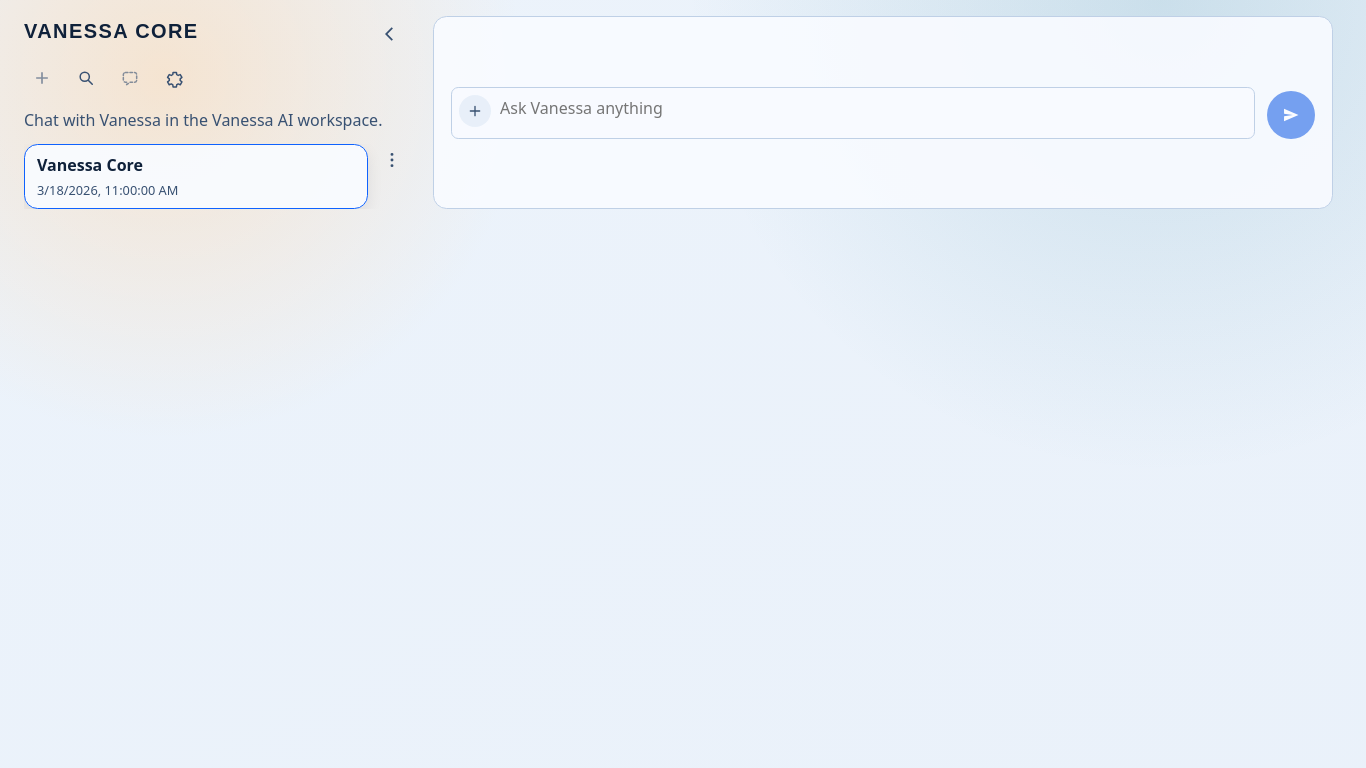
Test case: VanessaCorePage › mounts Vanessa through the shared playground workspace with a fixed assistant identity
expect the text "Chat with Vanessa in the Vanessa AI workspace." is shown: met, box [24,108,408,132]
Click the button named "Chat settings": [174, 78] box [156,60,192,96]
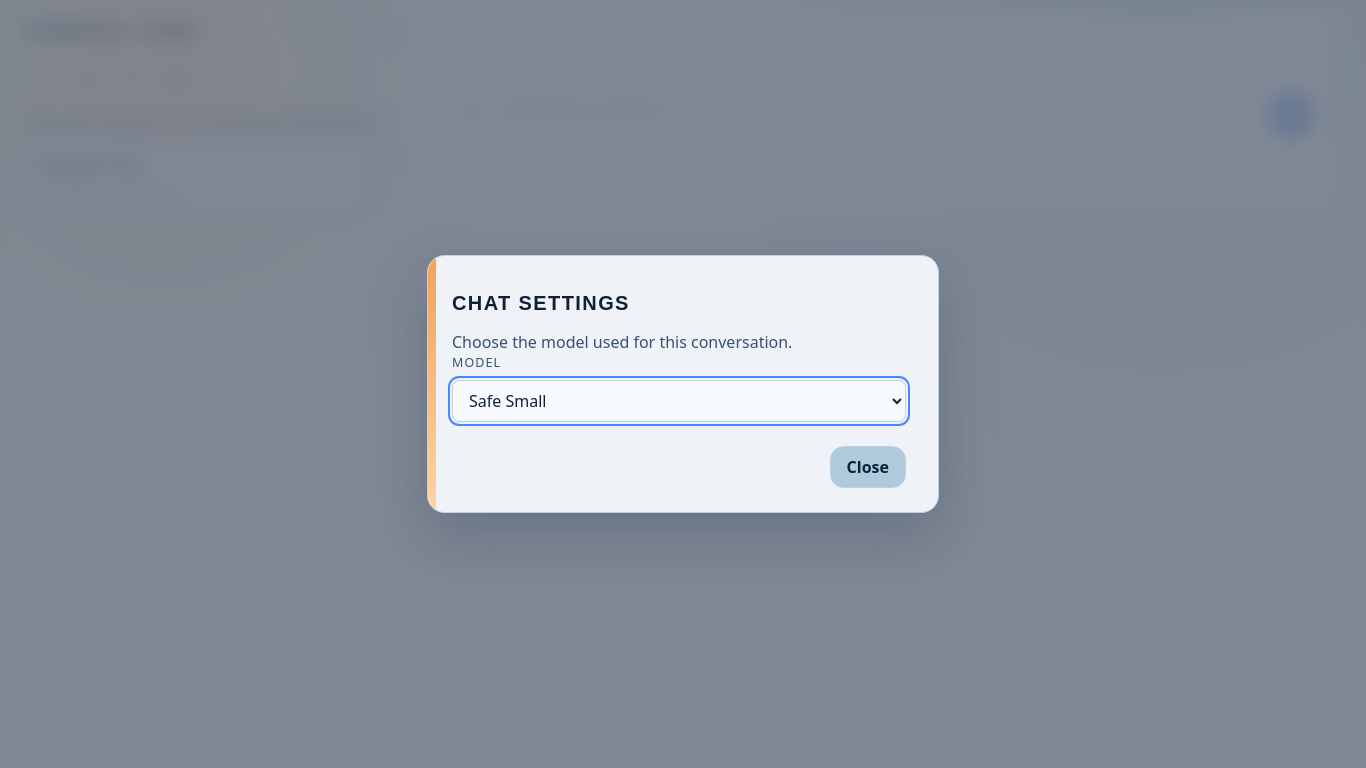
expect the dropdown labelled "Model" is shown: met, box [452,380,906,422]
